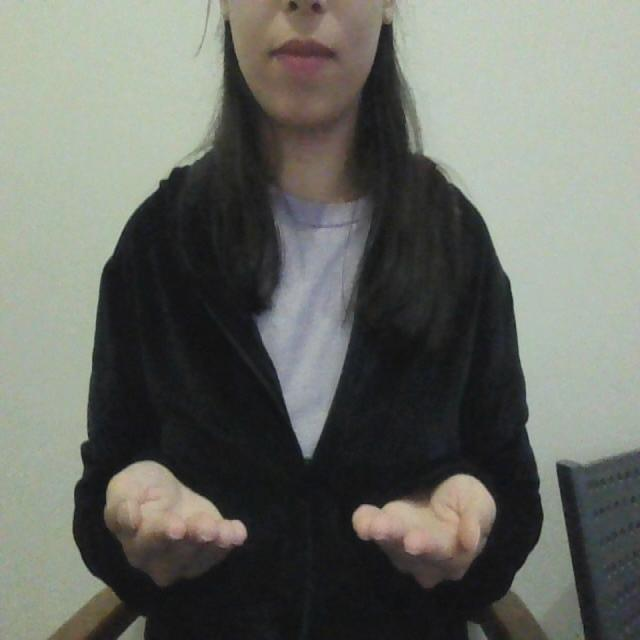Evet: (100, 453, 500, 598)
